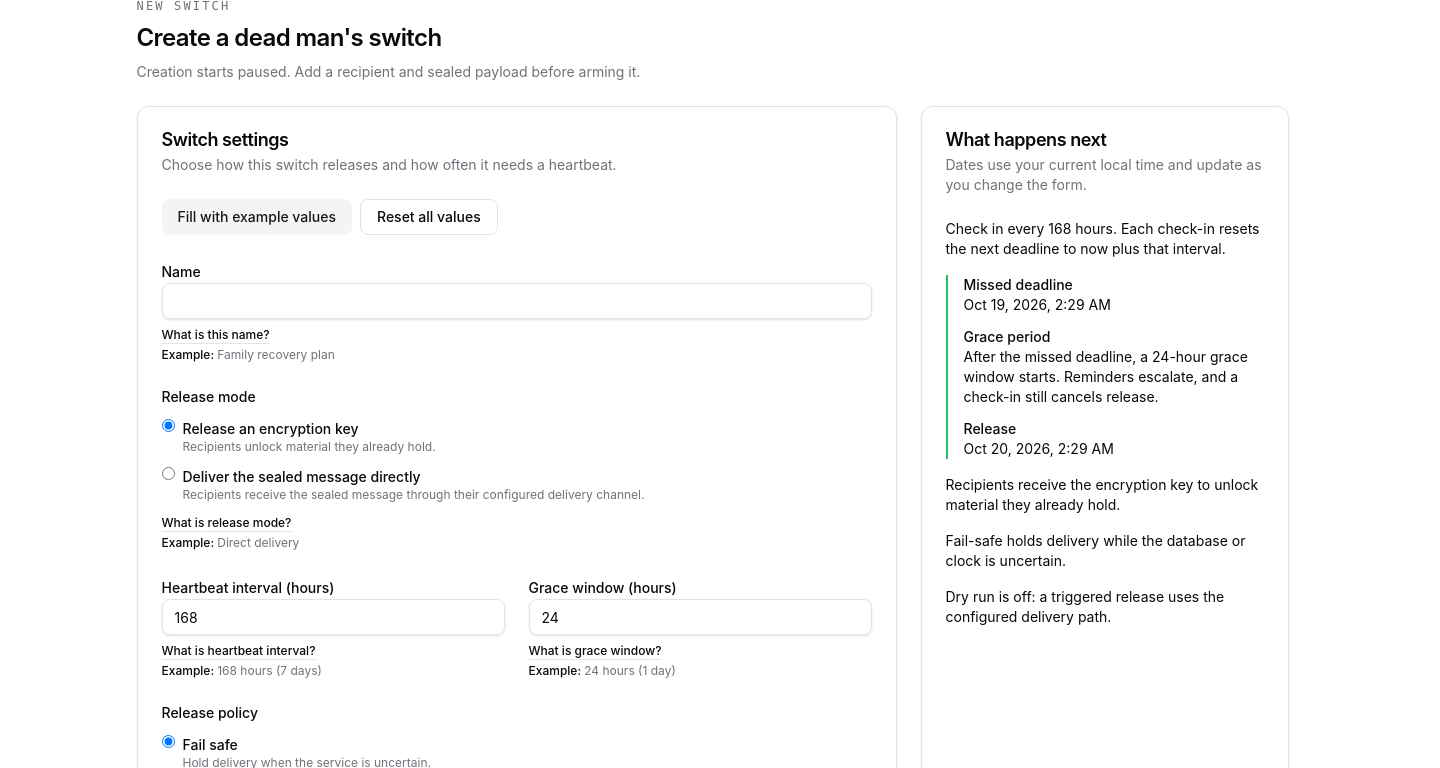
Test: NewSwitchPage › explains when the submitted title already exists for the owner
Step 1. Click the button "Fill with example values" → click(257, 217), box x1=162 y1=199 x2=352 y2=235
(page scrolled)
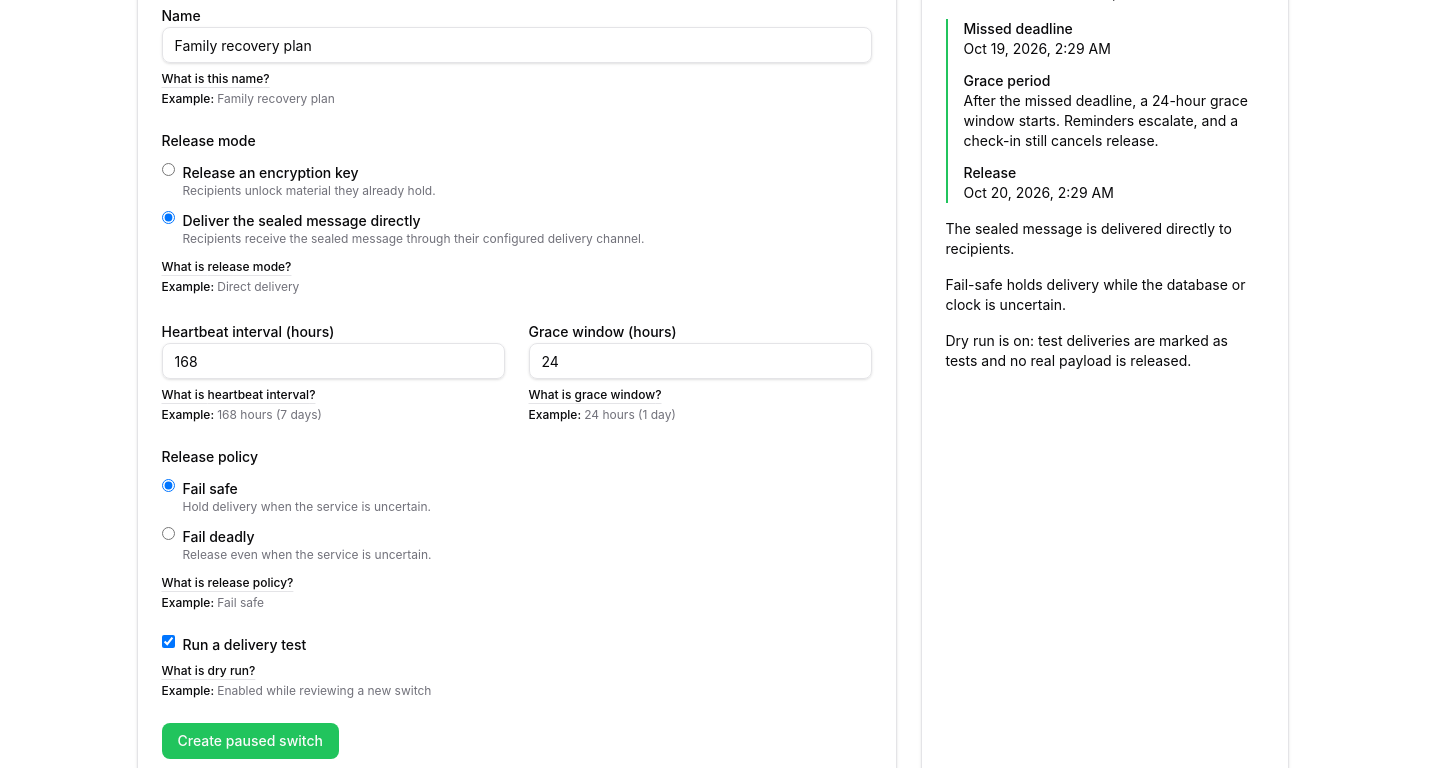
Step 2. Click the button "Create paused switch" → click(250, 741), box x1=162 y1=723 x2=339 y2=759
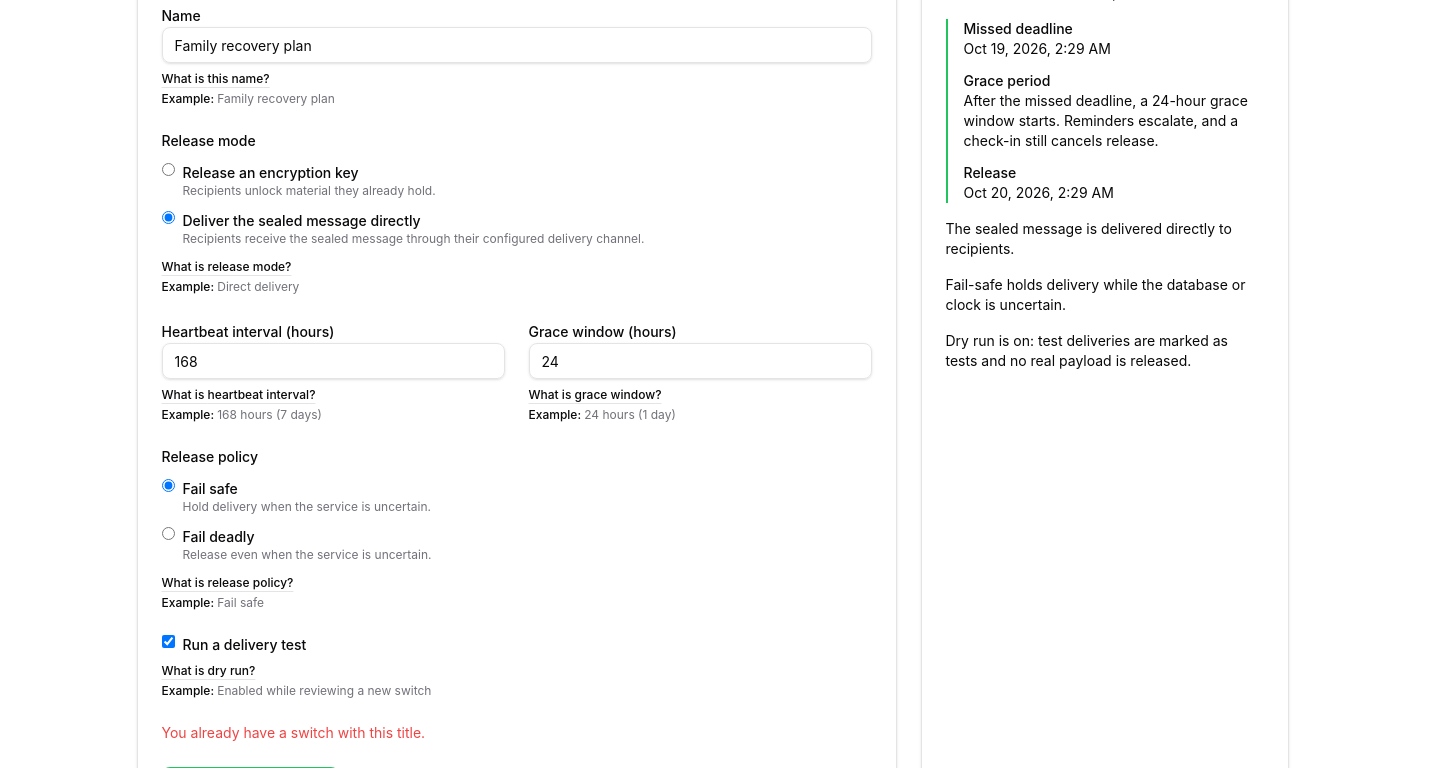
Expected: the message reads "You already have a switch with this title.", x1=162 y1=724 x2=425 y2=741
